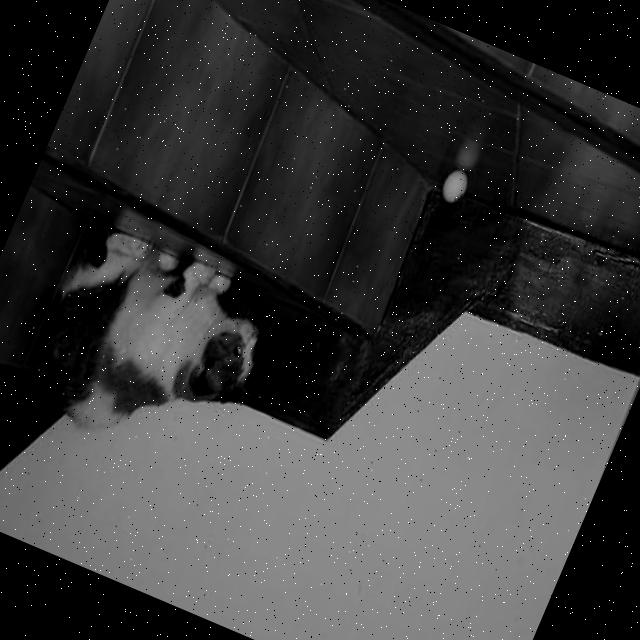ping-pong-ball: (436, 163, 474, 206)
